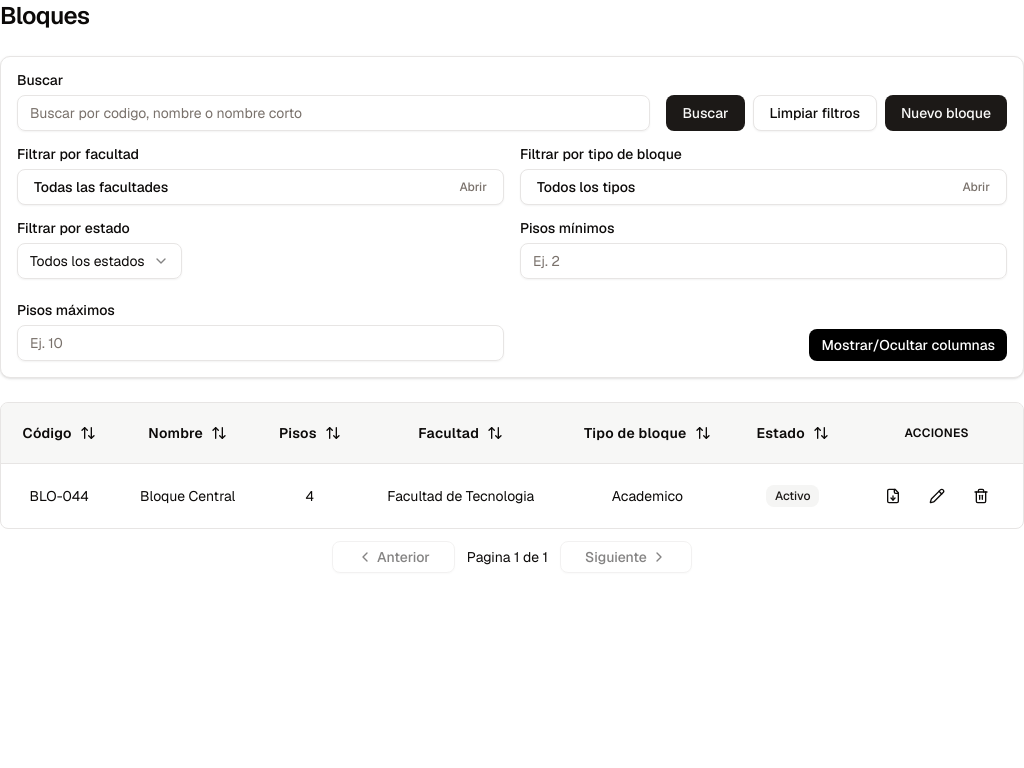
BlockListPage › muestra el dialogo de confirmacion de eliminacion con los datos del bloque
Expected: the text "Bloque Central" is shown, [133,486,242,506]
Step 1. Click the button titled "eliminar bloque" → (981, 496), box [963,478,999,514]
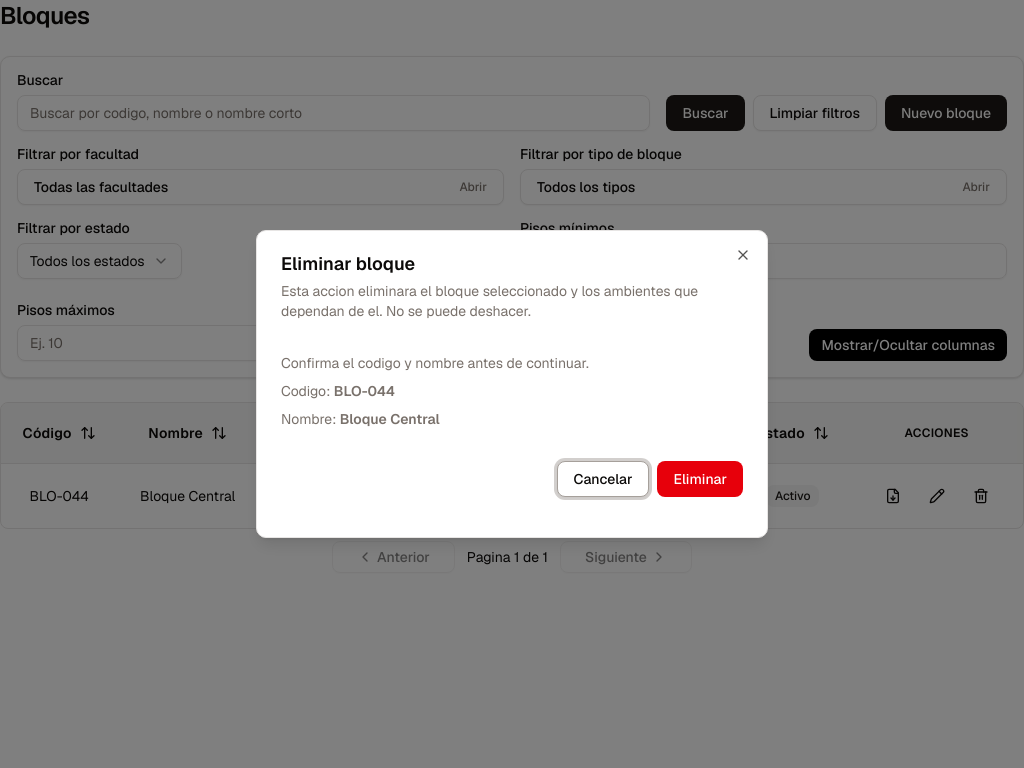
Result: the heading "Eliminar bloque" is shown at [281,252,415,275]
Result: the text "Confirma el codigo y nombre antes de continuar." is shown at [281,354,589,372]
Result: the text "BLO-044" is shown at [334,382,395,400]
